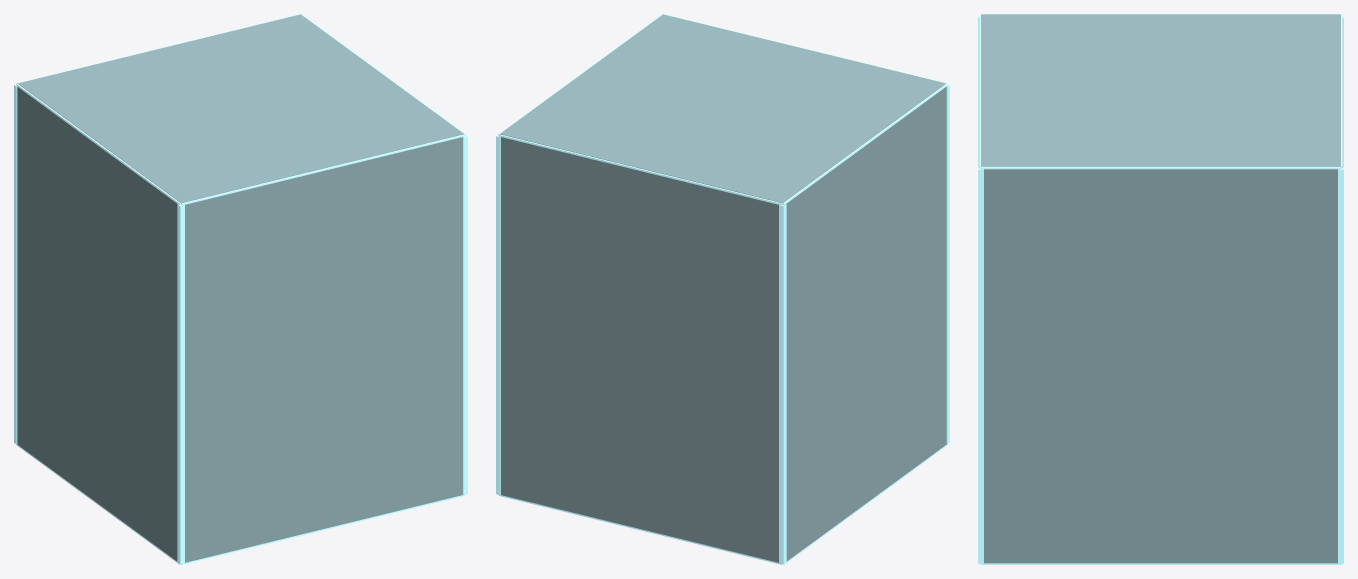
The model's file is vitrine.glb.
The picture shows the model from 3 angles, left to right: view 1: azimuth 30°, elevation 25°; view 2: azimuth 150°, elevation 25°; view 3: azimuth 270°, elevation 25°; orthographic projection. The views are drawn at different scales.
Parts seen in each view (by area): view 1: vitrine; view 2: vitrine; view 3: vitrine.
Part boxes in pixels (bbox=[...]): vitrine: bbox=[14, 14, 467, 564]; vitrine: bbox=[496, 14, 949, 564]; vitrine: bbox=[978, 14, 1343, 564].
Bounding box in the file's own units: 0.488 × 0.5855 × 0.488.
